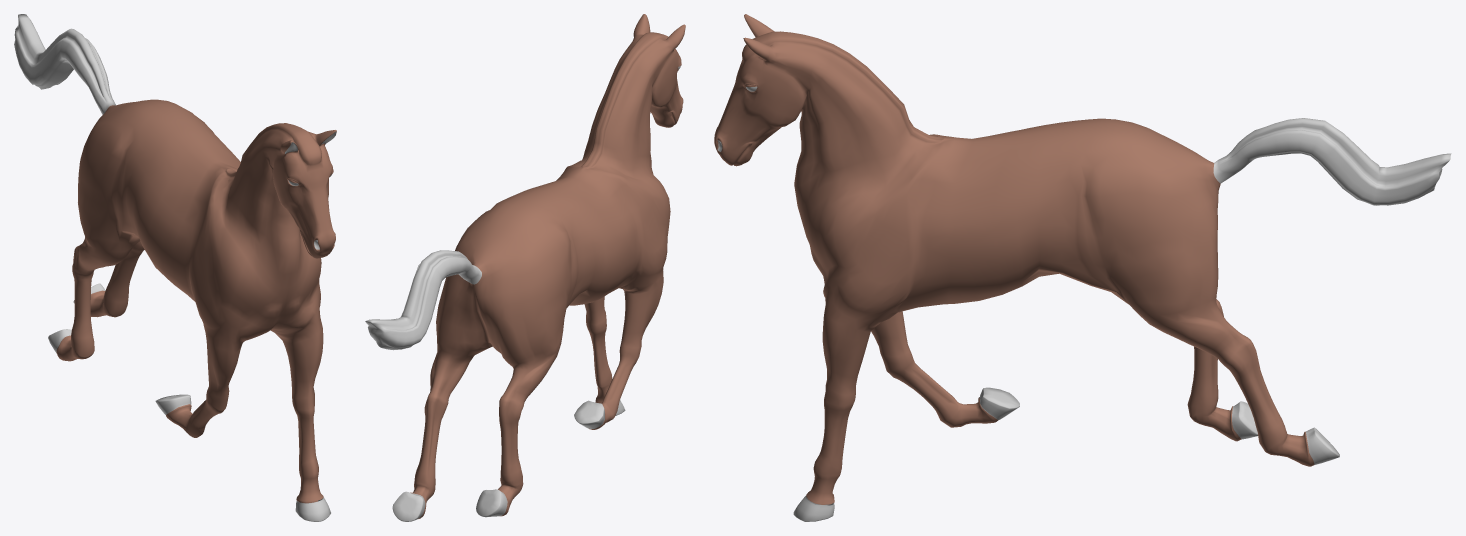
File: horse_obj_14.obj
The picture shows the model from 3 angles, left to right: view 1: azimuth 30°, elevation 25°; view 2: azimuth 150°, elevation 25°; view 3: azimuth 270°, elevation 25°; orthographic projection. The views are drawn at different scales.
Visible parts, largest first — view 1: Figure_1; view 2: Figure_1; view 3: Figure_1.
Boxes of the visible parts, <box> form: Figure_1: <box>14,14,336,521</box>; Figure_1: <box>365,14,685,521</box>; Figure_1: <box>714,14,1451,521</box>.
Bounding box in the file's own units: 0.2427 × 0.8275 × 1.17.
